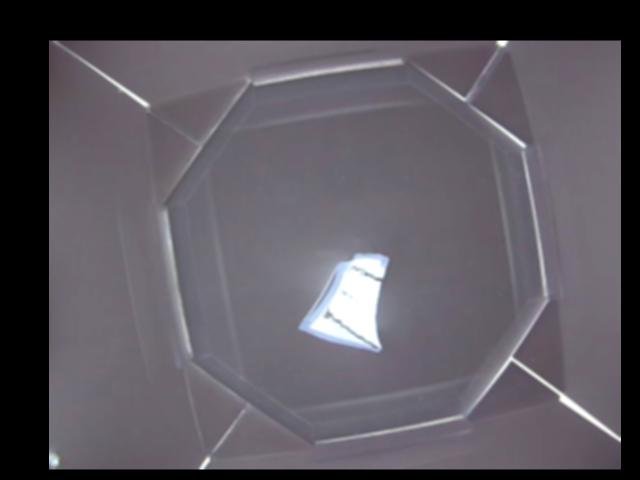China: (297, 251, 388, 349)
